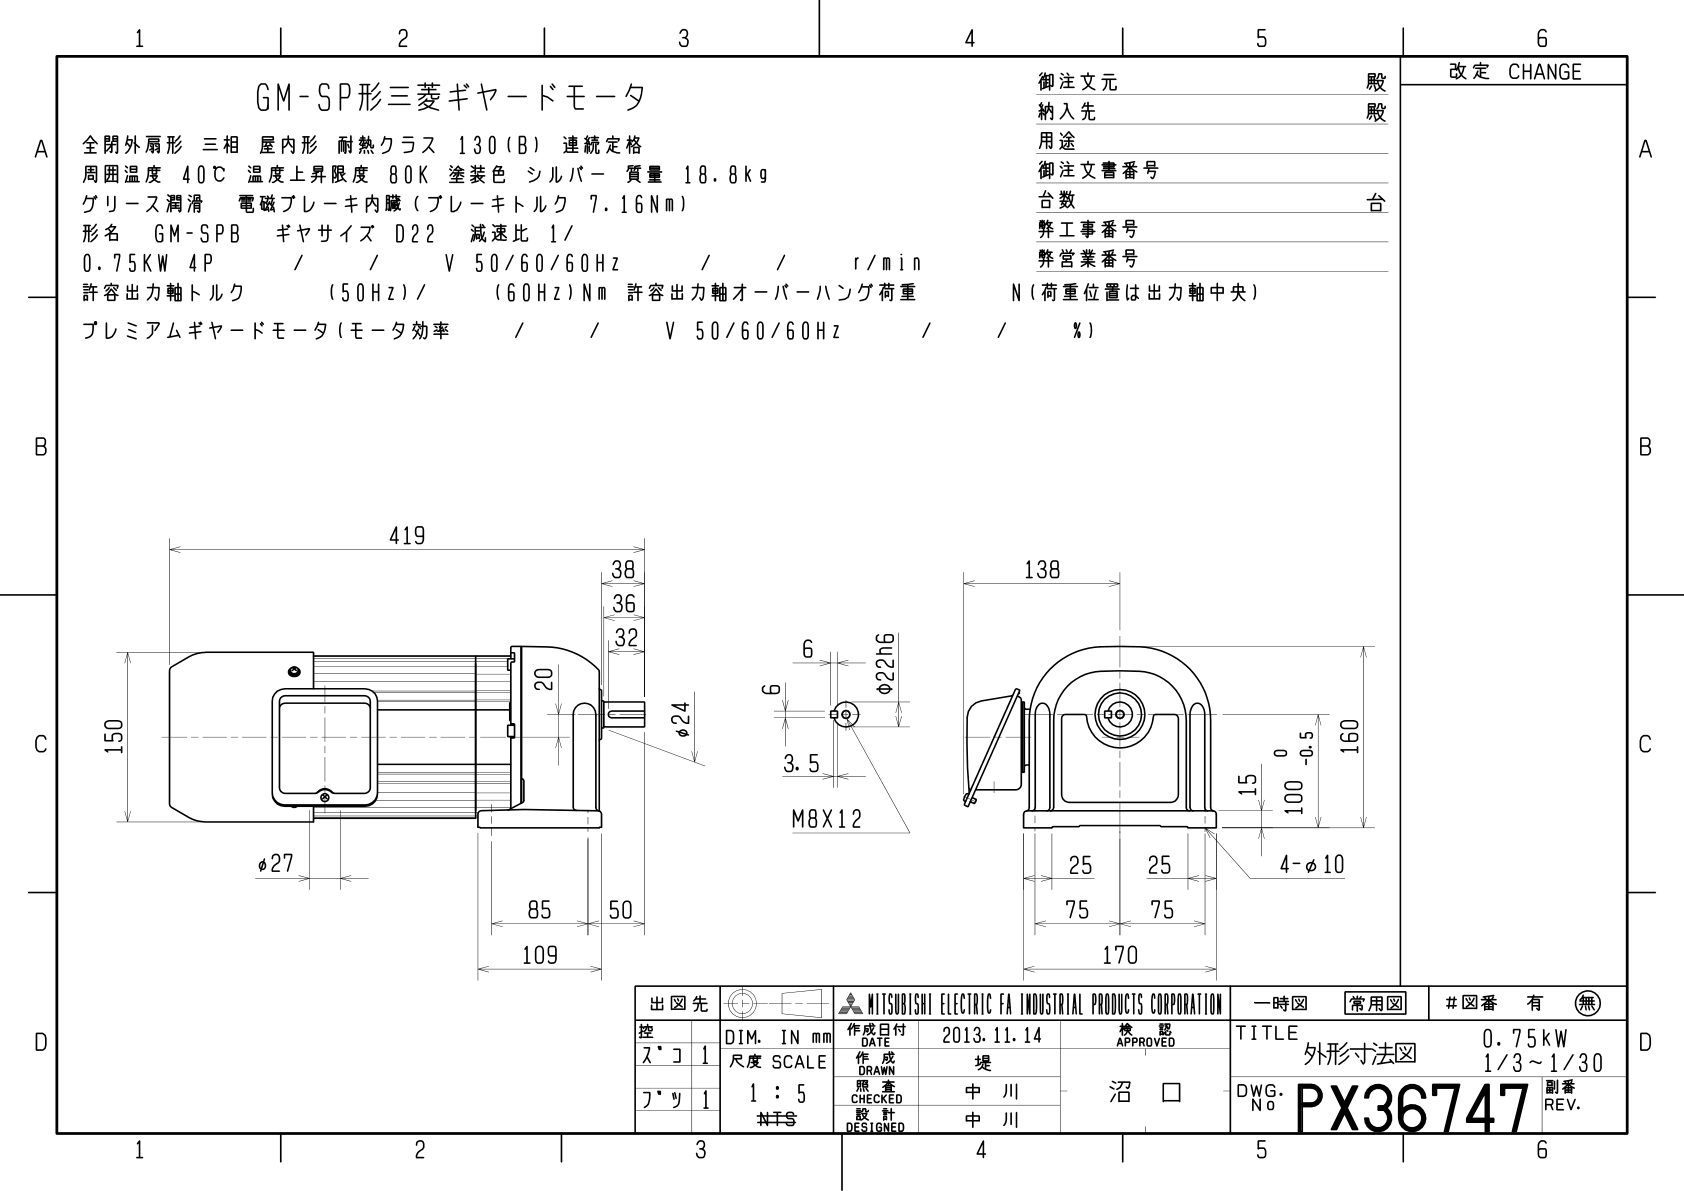GM_SP_屋内_三相_脚: (85, 486, 1386, 986)
